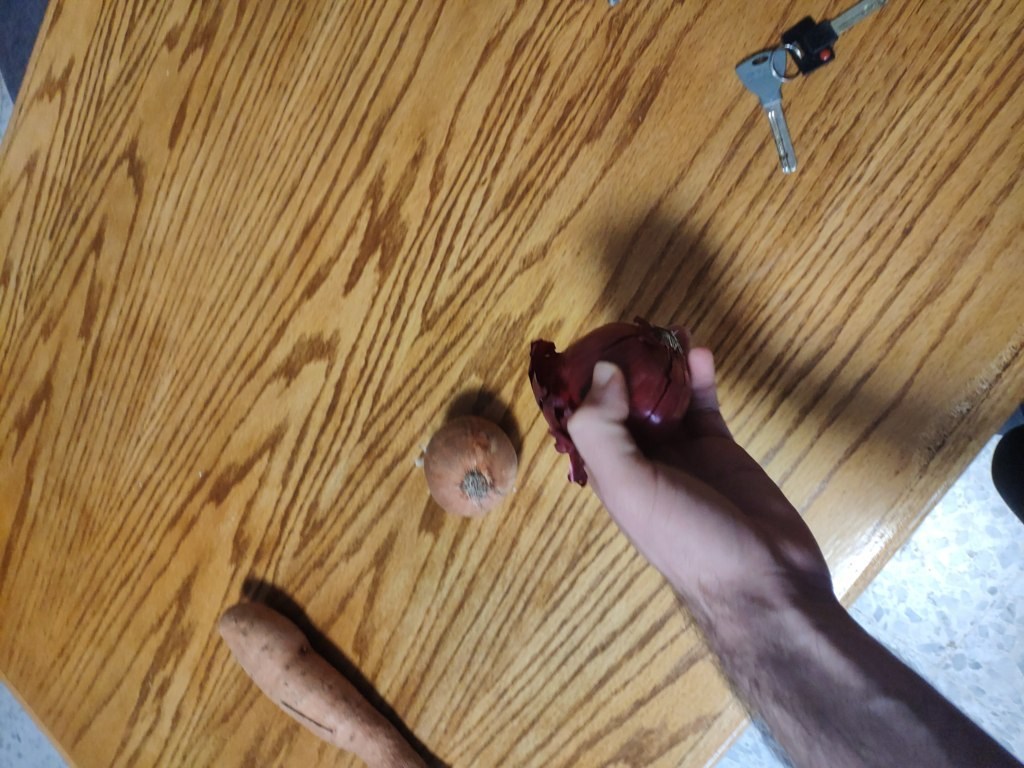Onion: (555, 329, 679, 461), (428, 418, 552, 541)
